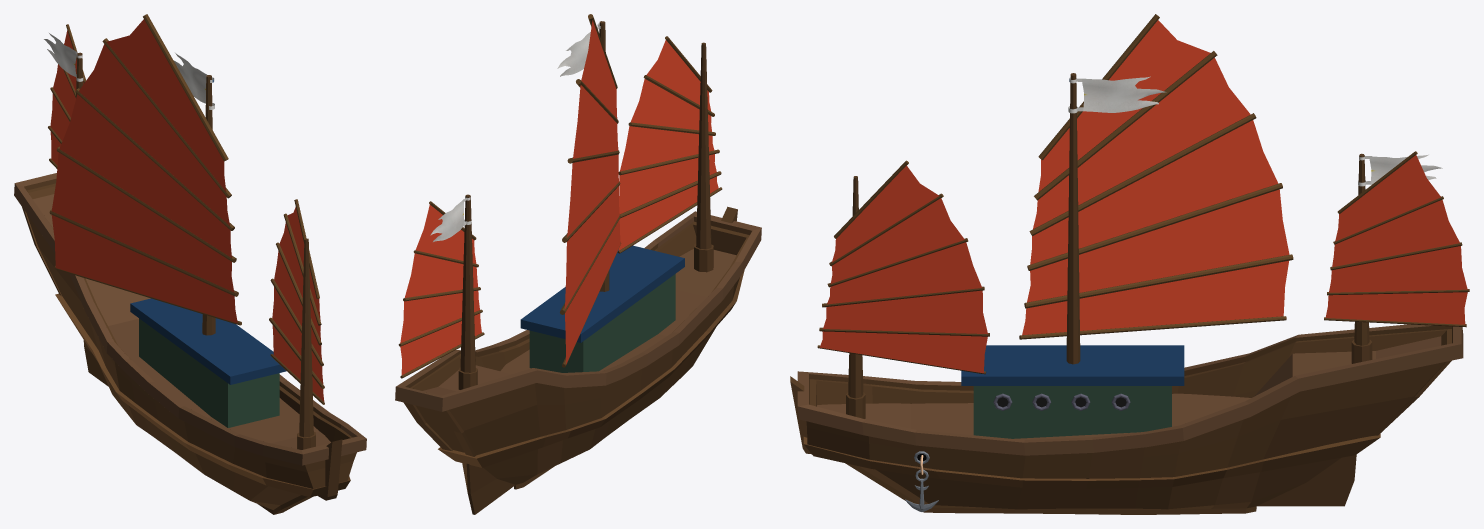
File: boat.glb
3 renders of one model, left to right at view 1: azimuth 30°, elevation 25°; view 2: azimuth 150°, elevation 25°; view 3: azimuth 270°, elevation 25°, orthographic. The views are drawn at different scales.
Parts seen in each view (by area): view 1: wing1, ChineseBoat, flag; view 2: ChineseBoat, wing1, flag; view 3: wing1, ChineseBoat, flag, window.
Part boxes in pixels (bbox=[...]): wing1: bbox=[48, 14, 324, 404]; ChineseBoat: bbox=[14, 52, 366, 514]; flag: bbox=[44, 33, 207, 103]; ChineseBoat: bbox=[395, 21, 761, 514]; wing1: bbox=[398, 14, 722, 378]; flag: bbox=[430, 31, 590, 241]; wing1: bbox=[817, 14, 1469, 374]; ChineseBoat: bbox=[790, 73, 1463, 514]; flag: bbox=[1082, 76, 1442, 184]; window: bbox=[993, 393, 1130, 410].
Bounding box in the file's own units: 2.38 × 8.23 × 10.52.
13 materials, 1 textured.
